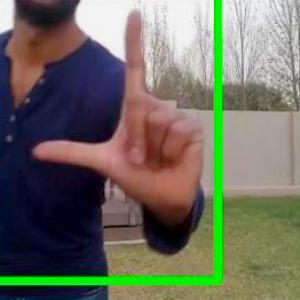land_hand: (31, 4, 211, 214)
